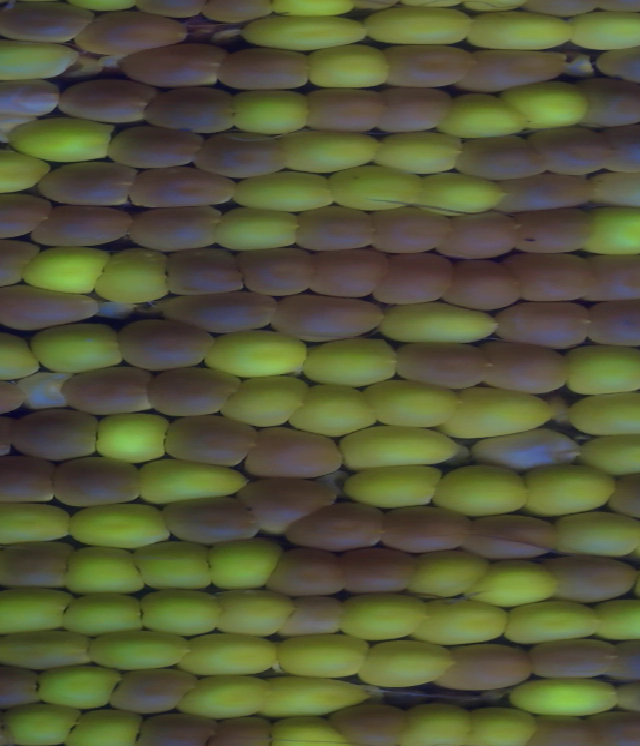fluorescent: (436, 382, 561, 445), (429, 454, 538, 524), (514, 458, 628, 524), (336, 420, 468, 476), (197, 324, 321, 383), (297, 330, 407, 395), (128, 454, 260, 508), (377, 297, 509, 351), (29, 314, 138, 379), (357, 372, 466, 436), (5, 112, 123, 170), (201, 530, 297, 601), (322, 158, 435, 218), (330, 587, 441, 648), (249, 671, 379, 722), (351, 635, 465, 693), (501, 674, 633, 724), (85, 240, 179, 310), (62, 498, 179, 554), (358, 1, 483, 53), (217, 373, 318, 437), (172, 627, 288, 682), (272, 124, 388, 179), (406, 166, 516, 224), (337, 460, 448, 517), (467, 5, 588, 57), (80, 627, 200, 679), (408, 594, 519, 650), (17, 240, 114, 304), (460, 556, 567, 614), (273, 628, 380, 686), (401, 543, 499, 606), (498, 596, 610, 651), (281, 382, 384, 441), (496, 76, 597, 136), (432, 86, 535, 144), (169, 670, 278, 724), (236, 10, 376, 52), (545, 503, 640, 562), (127, 537, 220, 597), (55, 542, 151, 600), (209, 583, 306, 640), (301, 39, 399, 95), (207, 199, 310, 252), (555, 338, 640, 402), (134, 585, 232, 640), (366, 128, 471, 179), (0, 32, 90, 91), (56, 586, 154, 640), (221, 84, 316, 139), (90, 408, 175, 469), (0, 624, 99, 676), (228, 170, 342, 215), (32, 659, 125, 714), (0, 496, 80, 553), (0, 583, 80, 638), (566, 386, 640, 445), (391, 698, 481, 746), (0, 698, 88, 746), (561, 5, 640, 57), (576, 200, 640, 261), (58, 704, 150, 746), (573, 426, 640, 483), (457, 702, 541, 746), (0, 144, 57, 203), (589, 594, 640, 650), (0, 327, 46, 388), (266, 1, 358, 23)
nonfluorescent: (232, 470, 350, 541), (263, 289, 393, 347), (71, 2, 196, 61), (239, 421, 352, 485), (116, 312, 220, 379), (500, 247, 613, 308), (135, 79, 245, 141), (160, 409, 264, 474), (457, 507, 569, 567), (158, 286, 287, 338), (0, 277, 106, 340), (279, 498, 394, 556), (25, 200, 144, 256), (475, 337, 577, 402), (35, 155, 142, 216), (456, 41, 572, 97), (113, 36, 226, 93), (121, 200, 230, 259), (374, 38, 483, 97), (372, 500, 478, 560), (56, 361, 160, 422), (3, 403, 107, 464), (46, 453, 150, 514), (158, 492, 267, 550), (123, 160, 242, 213), (390, 336, 498, 394), (431, 639, 540, 696), (470, 422, 589, 474), (539, 550, 640, 611), (490, 297, 598, 354), (53, 73, 158, 131), (142, 363, 244, 422), (488, 169, 610, 218), (438, 253, 531, 317), (98, 120, 208, 174), (366, 79, 465, 139), (448, 129, 553, 185), (260, 542, 356, 603), (431, 204, 530, 263), (302, 244, 397, 305), (366, 248, 460, 308), (104, 662, 201, 720), (296, 82, 396, 138), (336, 538, 426, 600), (154, 244, 256, 298), (362, 199, 454, 258), (213, 41, 317, 93), (505, 205, 604, 259), (287, 201, 383, 256), (527, 123, 619, 180), (234, 242, 322, 299), (524, 635, 626, 684), (0, 536, 78, 599), (0, 1, 102, 48), (323, 698, 418, 746), (274, 589, 354, 642), (573, 74, 640, 135), (576, 246, 640, 308), (0, 451, 66, 511), (0, 189, 62, 246), (582, 294, 640, 354), (130, 708, 221, 746), (0, 74, 66, 125), (199, 713, 279, 746), (0, 235, 45, 293), (596, 122, 640, 177), (0, 661, 48, 711), (593, 39, 640, 90), (606, 467, 640, 527), (603, 636, 640, 687), (0, 373, 31, 425)
